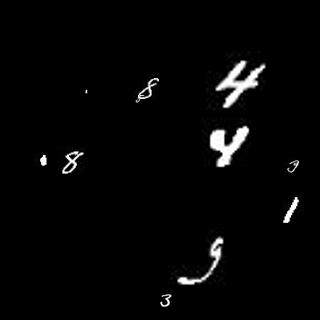dot: (38, 151, 52, 166), (83, 86, 89, 94)
eight: (60, 147, 89, 176), (137, 76, 160, 100)
four: (215, 58, 267, 110), (200, 122, 250, 172)
nine: (176, 236, 228, 289)
one: (282, 194, 299, 223)
three: (155, 289, 175, 308), (283, 155, 301, 175)
